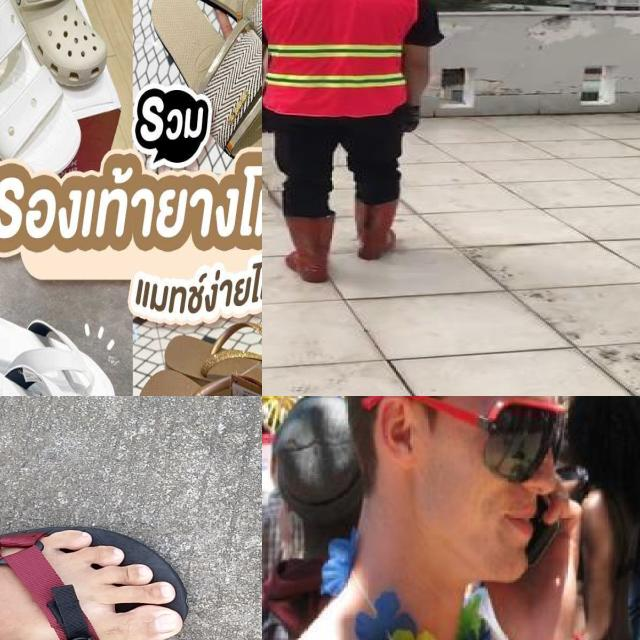No_Ear-Protection: (370, 396, 422, 468)
Sandals: (0, 526, 185, 640), (122, 310, 262, 396), (0, 298, 121, 396)
boots: (282, 214, 334, 283), (354, 198, 402, 261)
face_nomask: (482, 400, 564, 546)
glasses: (361, 396, 566, 489)
hand_glove: (405, 104, 423, 134), (262, 102, 269, 134)
head_nohelmet: (567, 396, 640, 443)
person: (262, 396, 636, 640), (262, 0, 446, 285)
vest: (262, 0, 413, 118)
